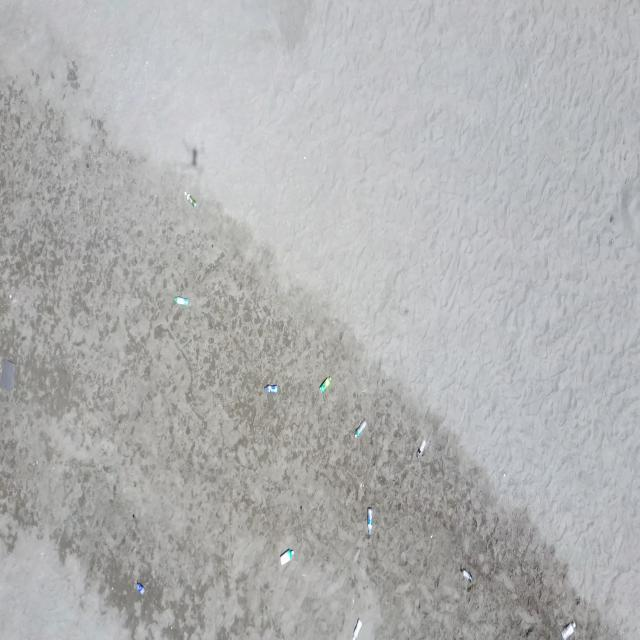Garbage: (0, 360, 15, 390), (562, 620, 575, 639), (280, 547, 293, 564), (319, 375, 331, 393), (352, 618, 362, 639), (353, 420, 366, 436), (183, 192, 196, 207), (460, 567, 472, 583), (415, 439, 426, 455), (367, 507, 372, 535), (264, 384, 278, 392), (172, 296, 188, 303), (135, 582, 143, 593)
